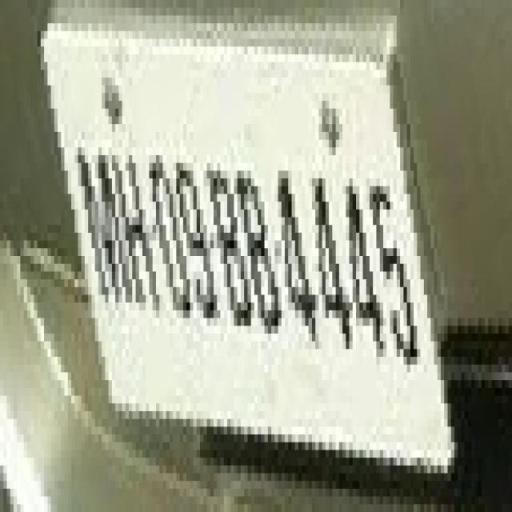number plate: (17, 23, 478, 458)
